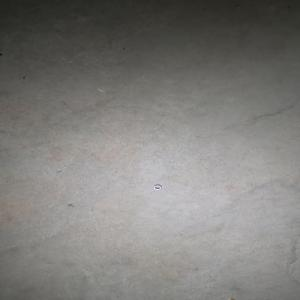Nut: (152, 184, 162, 190)
